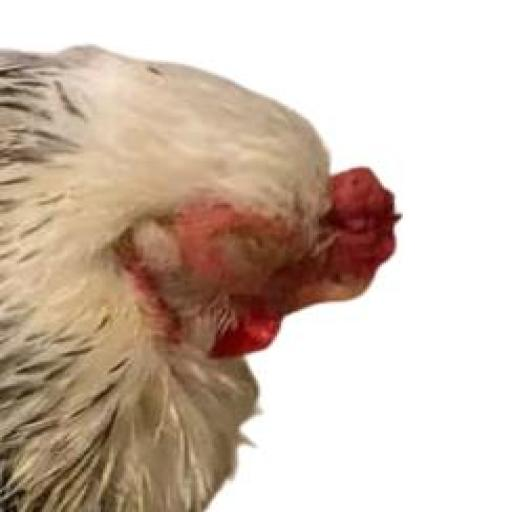disease: (184, 167, 312, 278)
